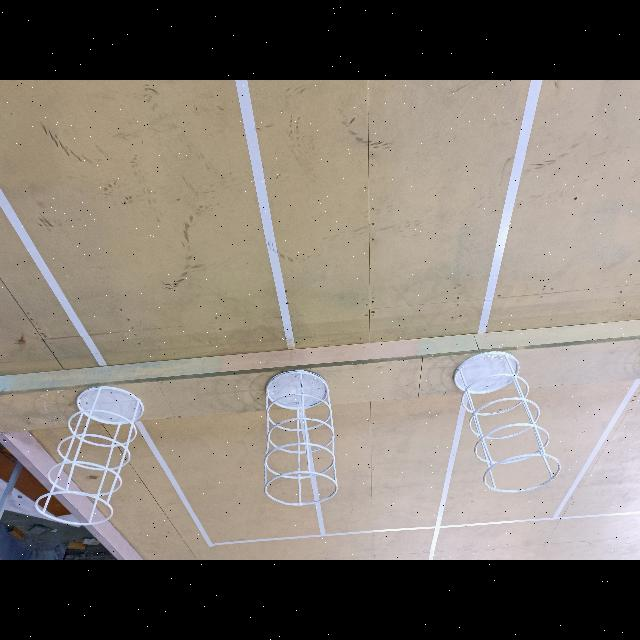S: (452, 349, 561, 493), (36, 385, 144, 527), (262, 367, 339, 507)
